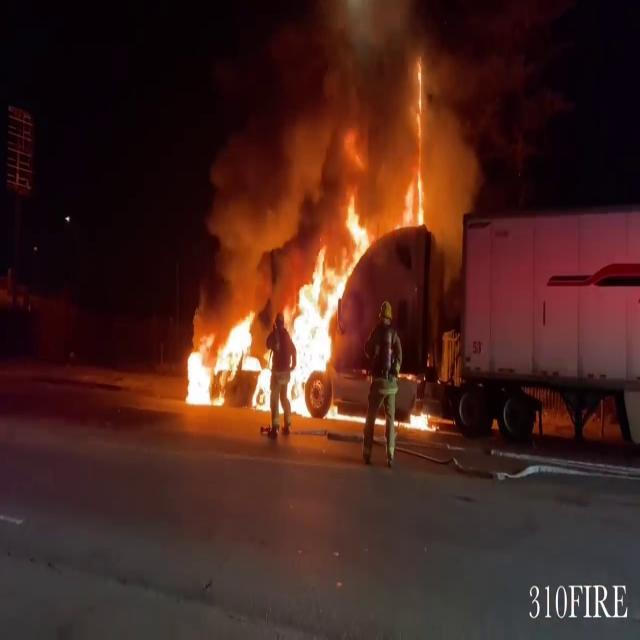Fire: (175, 244, 364, 424), (404, 32, 432, 225), (398, 404, 444, 436)
Smoke: (188, 0, 487, 268)
